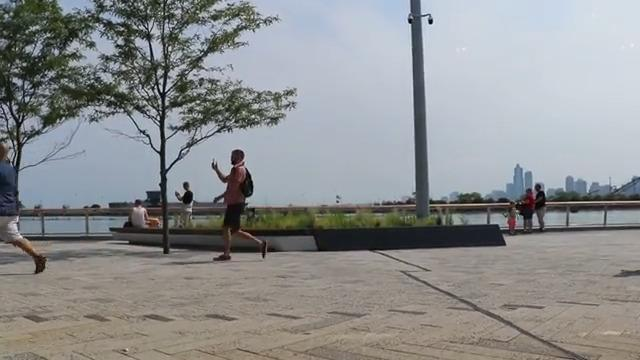no-helmet: (231, 149, 245, 165)
